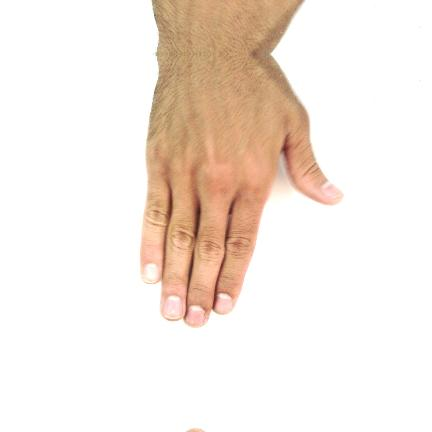Nail: (162, 295, 183, 320), (319, 180, 345, 200), (185, 305, 205, 328), (213, 294, 234, 315), (141, 263, 159, 284), (187, 428, 204, 432)
